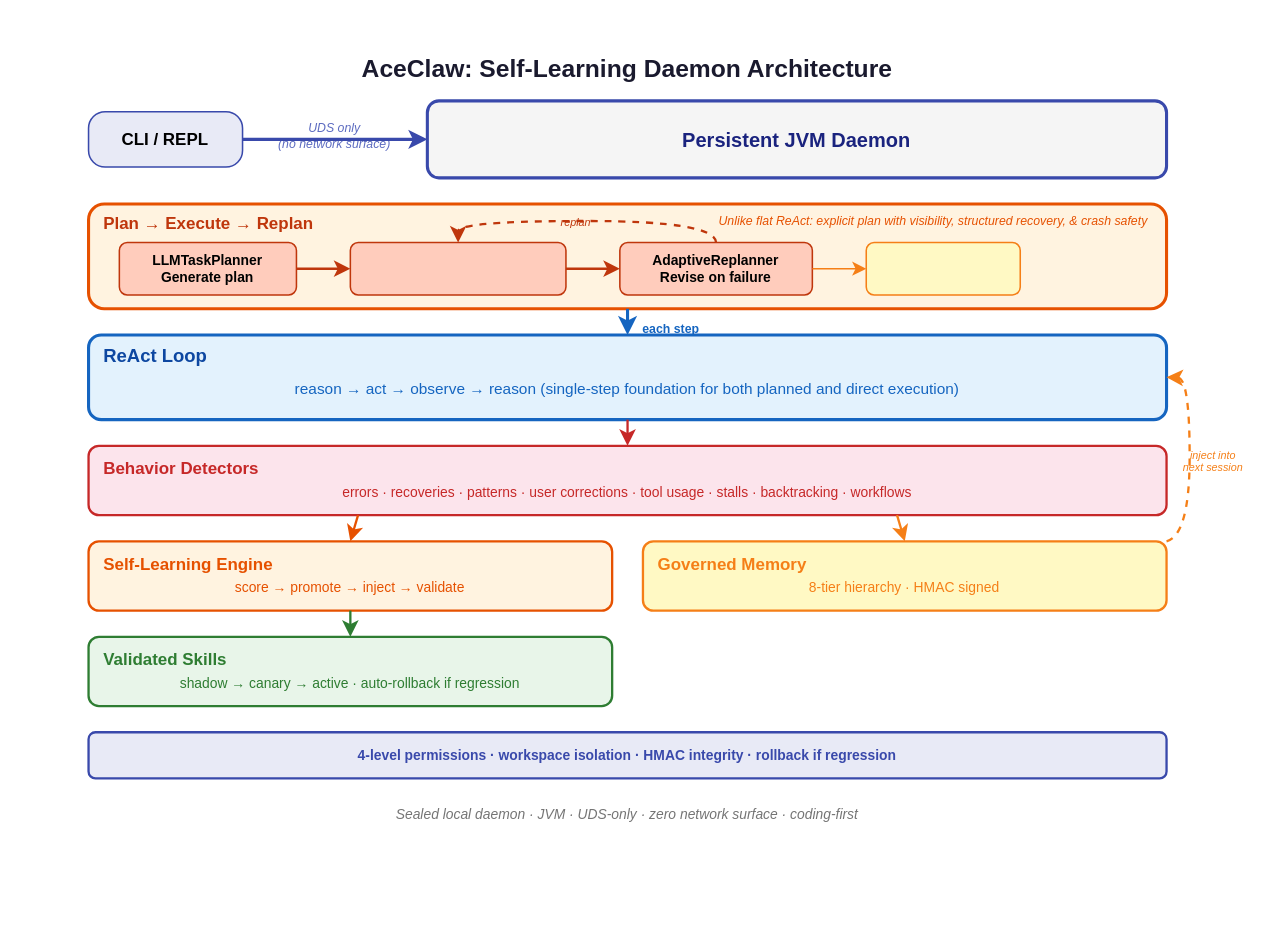
This 1274x946 diagram has some shape labels left out. The shapes that lost their labels are listed below. From the top down, each one's box as (x1, y1, x2, y2) in pixels, then its label:
(349, 241, 566, 295): SequentialPlanExecutor Per-step budgets
(865, 241, 1020, 295): Checkpoint Crash-safe resume
